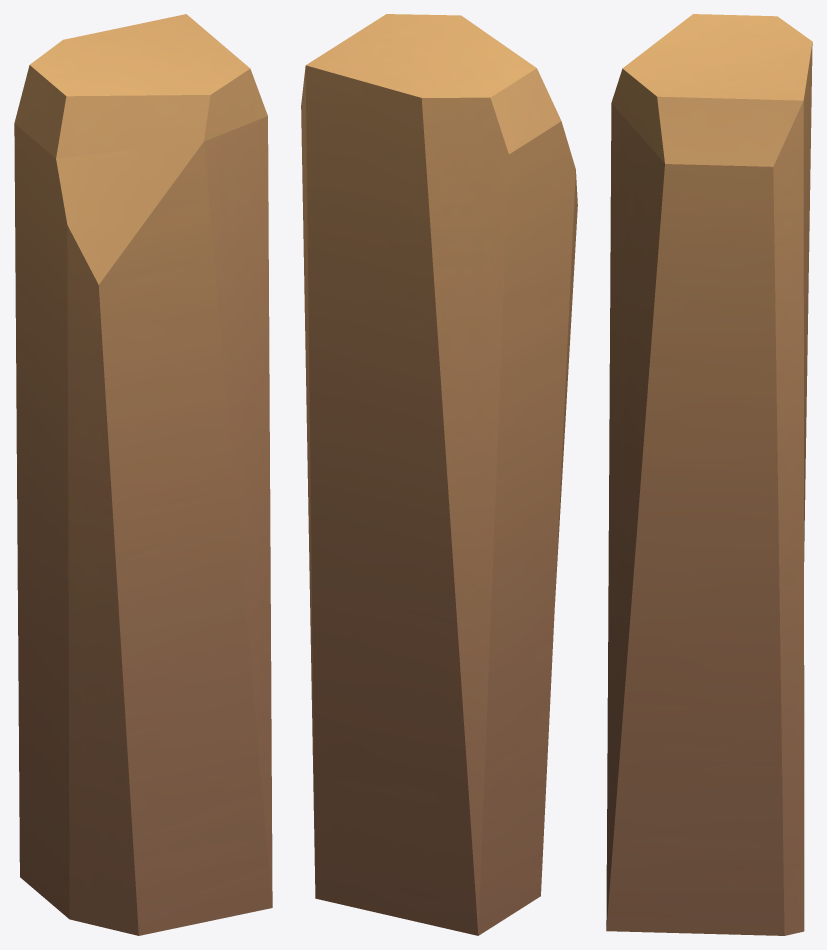
Rendered from tile rock a.fbx.
The picture shows the model from 3 angles, left to right: view 1: azimuth 30°, elevation 25°; view 2: azimuth 150°, elevation 25°; view 3: azimuth 270°, elevation 25°; orthographic projection.
Visible parts, largest first — view 1: tile_rocka; view 2: tile_rocka; view 3: tile_rocka.
Part boxes in pixels (<box>): tile_rocka: <box>14,14,272,935</box>; tile_rocka: <box>301,14,577,935</box>; tile_rocka: <box>606,14,812,935</box>.
Size of the model in its own units: 2.78 by 10.26 by 2.29.
Materials: 1 (1 with a texture image).
